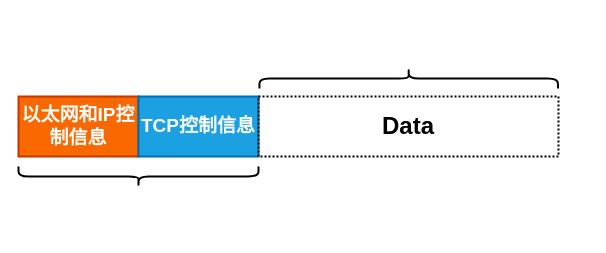
This 606x253 diagram has some shape labels left out. The centre of each missing label's shape, as x and y in pixels:
TCP状态转换时数据部可不需要: the point at 408,78
每个数据包都有: the point at 138,176
